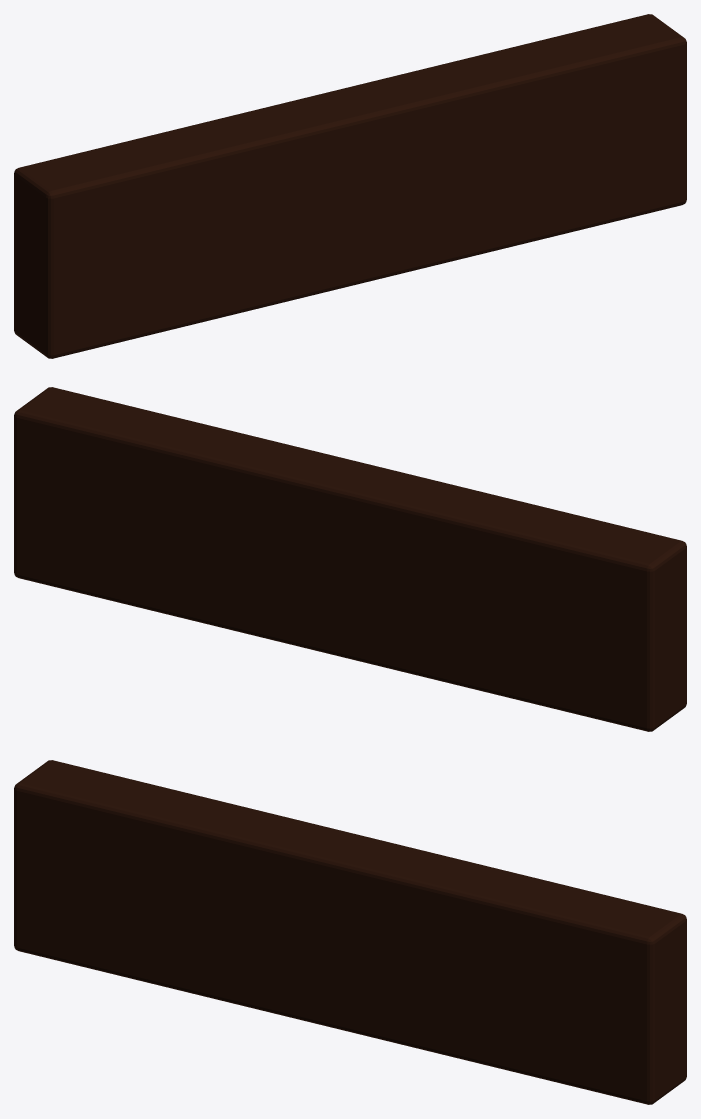
3 renders of one model, top to bottom at view 1: azimuth 30°, elevation 25°; view 2: azimuth 150°, elevation 25°; view 3: azimuth 330°, elevation 25°, orthographic.
Visible parts, largest first — view 1: sharpening_stone.001; view 2: sharpening_stone.001; view 3: sharpening_stone.001.
Boxes of the visible parts, x1,y1,x2,y2 form: sharpening_stone.001: [14, 14, 686, 358]; sharpening_stone.001: [14, 387, 686, 731]; sharpening_stone.001: [14, 760, 686, 1104].
Size of the model in its own units: 0.1 by 0.025 by 0.01.
